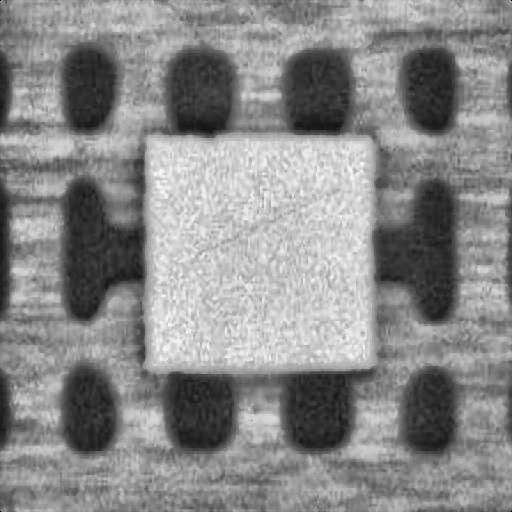DIE_CRACK: (295, 124, 504, 167)
